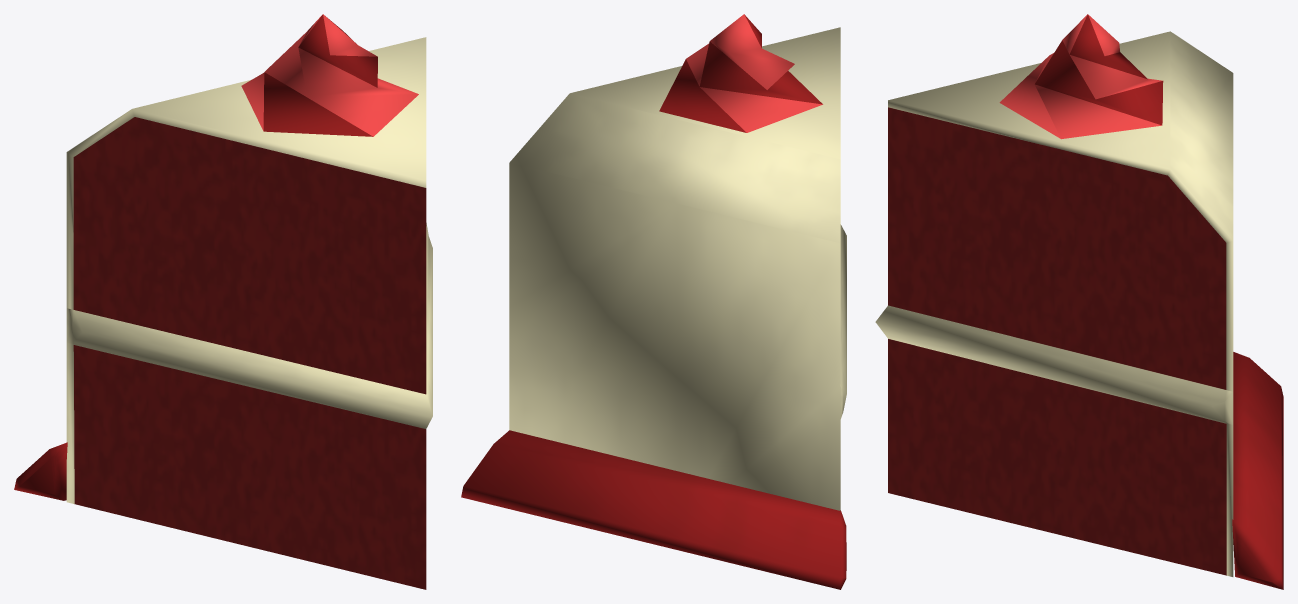
The model's file is Cake_Slice_A.FBX.
3 views of the same model, side by side, from view 1: azimuth 30°, elevation 25°; view 2: azimuth 150°, elevation 25°; view 3: azimuth 270°, elevation 25° (orthographic). The views are drawn at different scales.
Visible parts, largest first — view 1: Cake_03; view 2: Cake_03; view 3: Cake_03.
Part boxes in pixels (left/top/right/bottom): Cake_03: left=14, top=14, right=432, bottom=589; Cake_03: left=461, top=14, right=846, bottom=589; Cake_03: left=875, top=14, right=1283, bottom=589.
Size of the model in its own units: 58.57 by 67.89 by 52.35.
